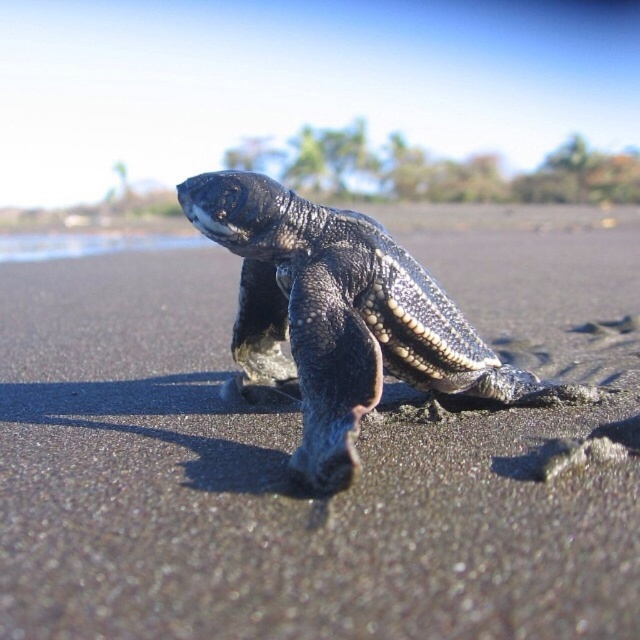Sea turtle: (168, 167, 558, 504)
